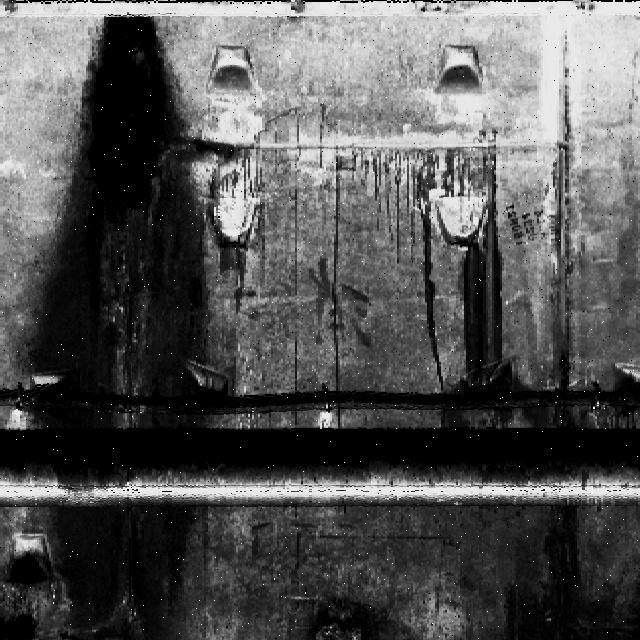leakage: (23, 7, 228, 639), (418, 137, 529, 428), (463, 491, 631, 639), (538, 31, 591, 428), (298, 593, 422, 639)
